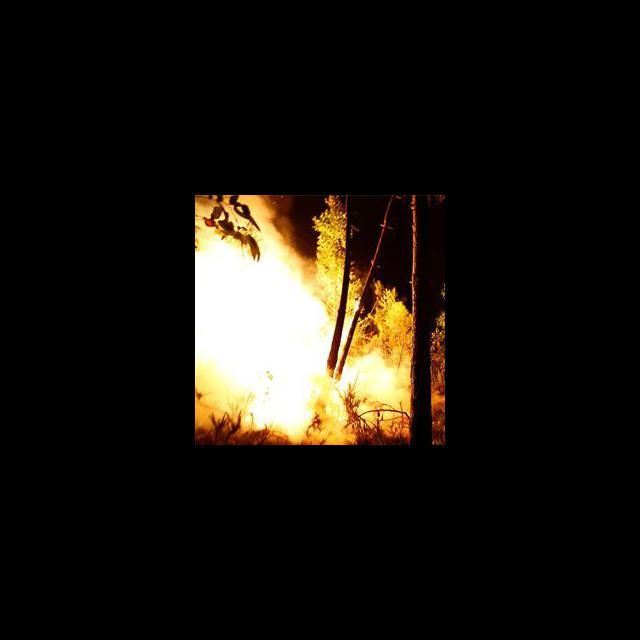Fire: (196, 237, 403, 440)
